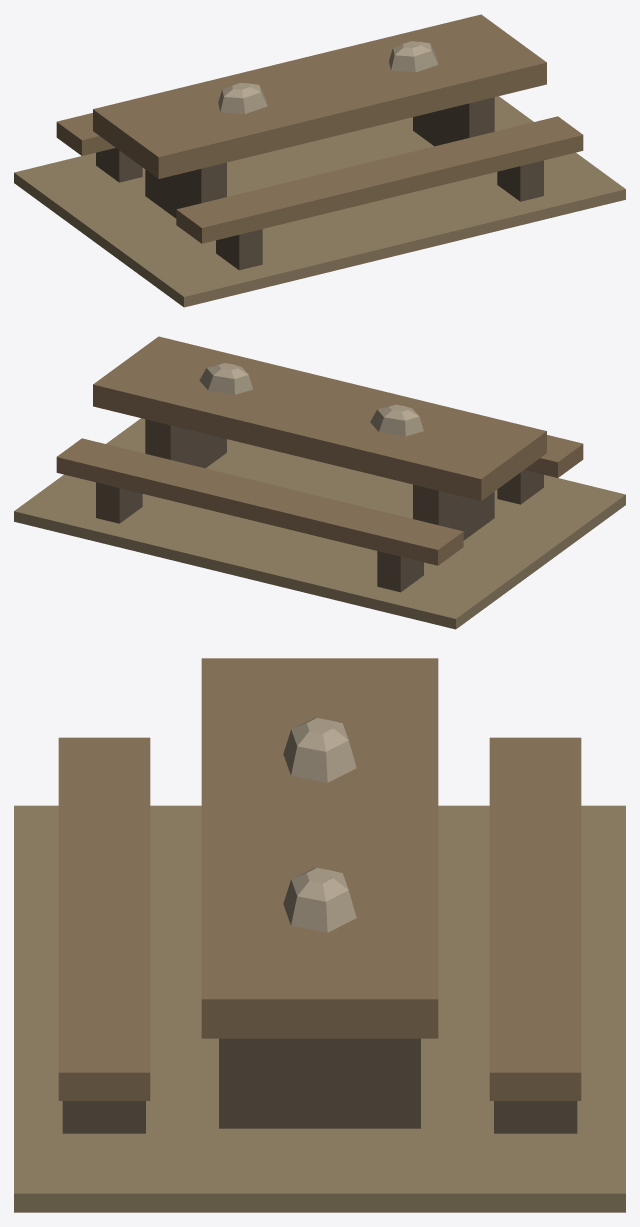
Rendered from Dungeon_DiningSet.fbx.
The picture shows the model from 3 angles, top to bottom: view 1: azimuth 30°, elevation 25°; view 2: azimuth 150°, elevation 25°; view 3: azimuth 270°, elevation 25°; orthographic projection. The views are drawn at different scales.
Visible parts, largest first — view 1: Dungeon_DiningSet; view 2: Dungeon_DiningSet; view 3: Dungeon_DiningSet.
Part boxes in pixels (x1,y1,x2,y2): Dungeon_DiningSet: (14,14,625,307); Dungeon_DiningSet: (14,336,625,629); Dungeon_DiningSet: (14,658,625,1212).
Bounding box in the file's own units: 5.28 × 1.42 × 3.52.
